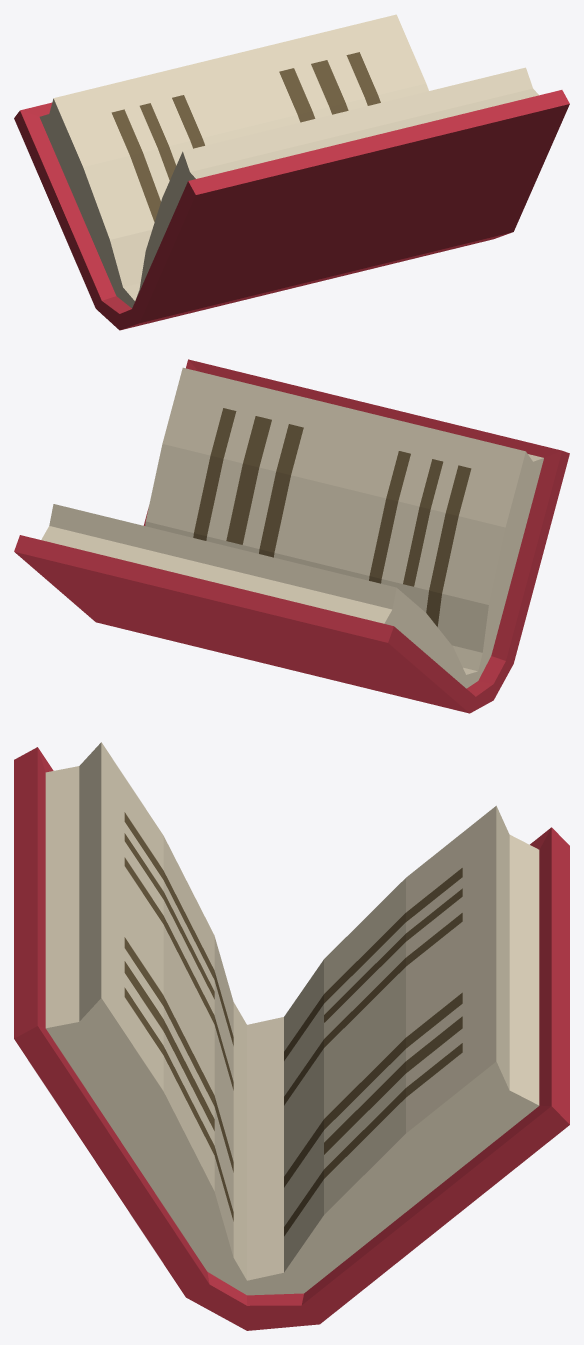
File: Book3.glb
3 views of the same model, one above another, from view 1: azimuth 30°, elevation 25°; view 2: azimuth 150°, elevation 25°; view 3: azimuth 270°, elevation 25° (orthographic). The views are drawn at different scales.
Parts seen in each view (by area): view 1: Book3; view 2: Book3; view 3: Book3.
Part boxes in pixels (x1,y1,x2,y2): Book3: [14, 14, 569, 330]; Book3: [14, 359, 569, 713]; Book3: [14, 742, 569, 1330].
Size of the model in its own units: 1.19 by 0.6418 by 1.01.
